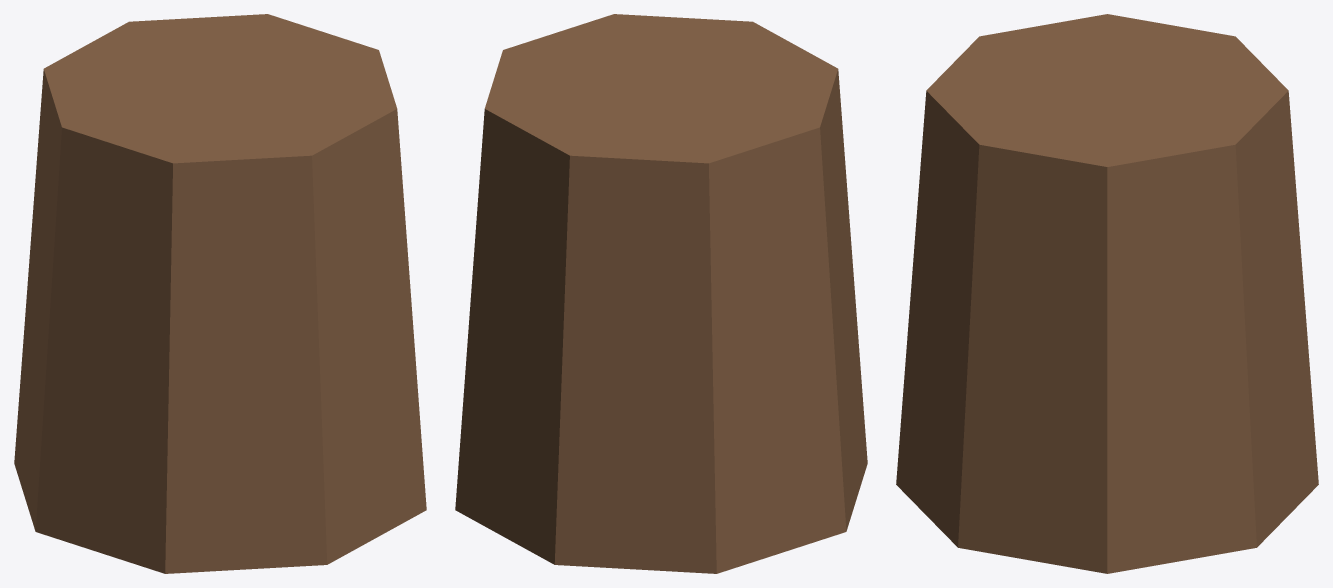
Rendered from prop_barrel.glb.
The picture shows the model from 3 angles, left to right: view 1: azimuth 30°, elevation 25°; view 2: azimuth 150°, elevation 25°; view 3: azimuth 270°, elevation 25°; orthographic projection.
Parts seen in each view (by area): view 1: prop_barrel; view 2: prop_barrel; view 3: prop_barrel.
Boxes of the visible parts, left/top/right/bottom form: prop_barrel: left=14, top=14, right=426, bottom=573; prop_barrel: left=455, top=14, right=867, bottom=573; prop_barrel: left=896, top=14, right=1318, bottom=573.
Size of the model in its own units: 0.7 by 0.72 by 0.7.
Materials: 1 (1 with a texture image).
